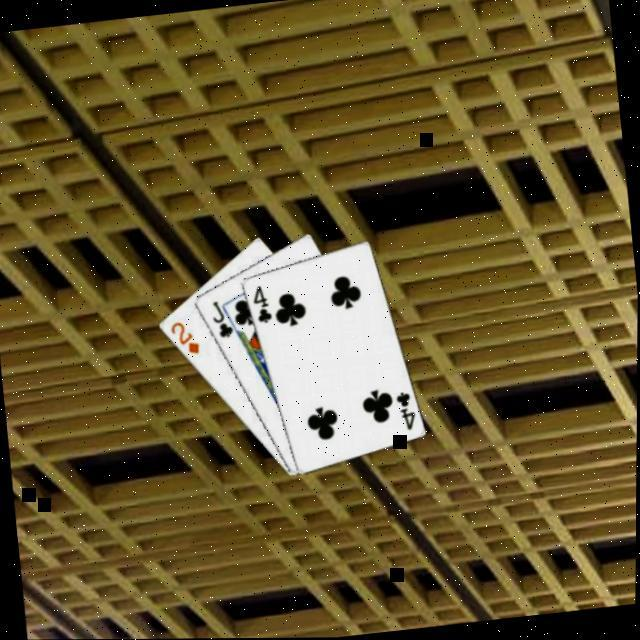2D: (165, 315, 201, 358)
4C: (390, 387, 418, 433), (248, 280, 274, 326)
JC: (206, 295, 236, 341)
